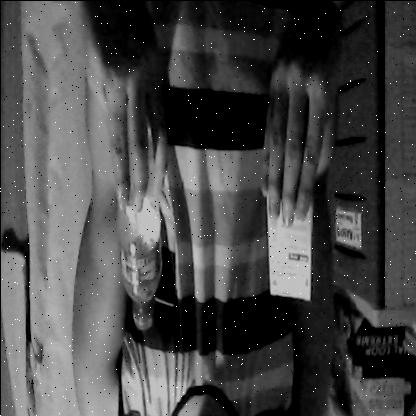Plastic Bottle: (107, 142, 166, 344)
